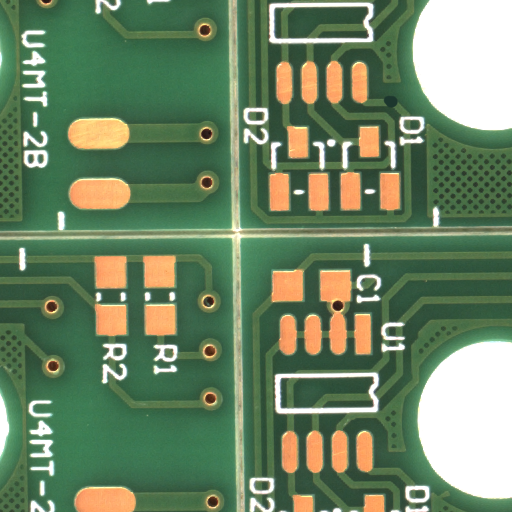Mouse_bite: (390, 101, 401, 112)
